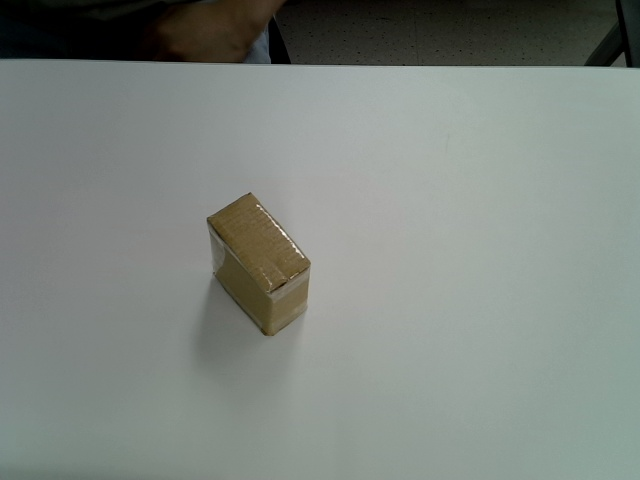normal: (206, 190, 312, 337)
